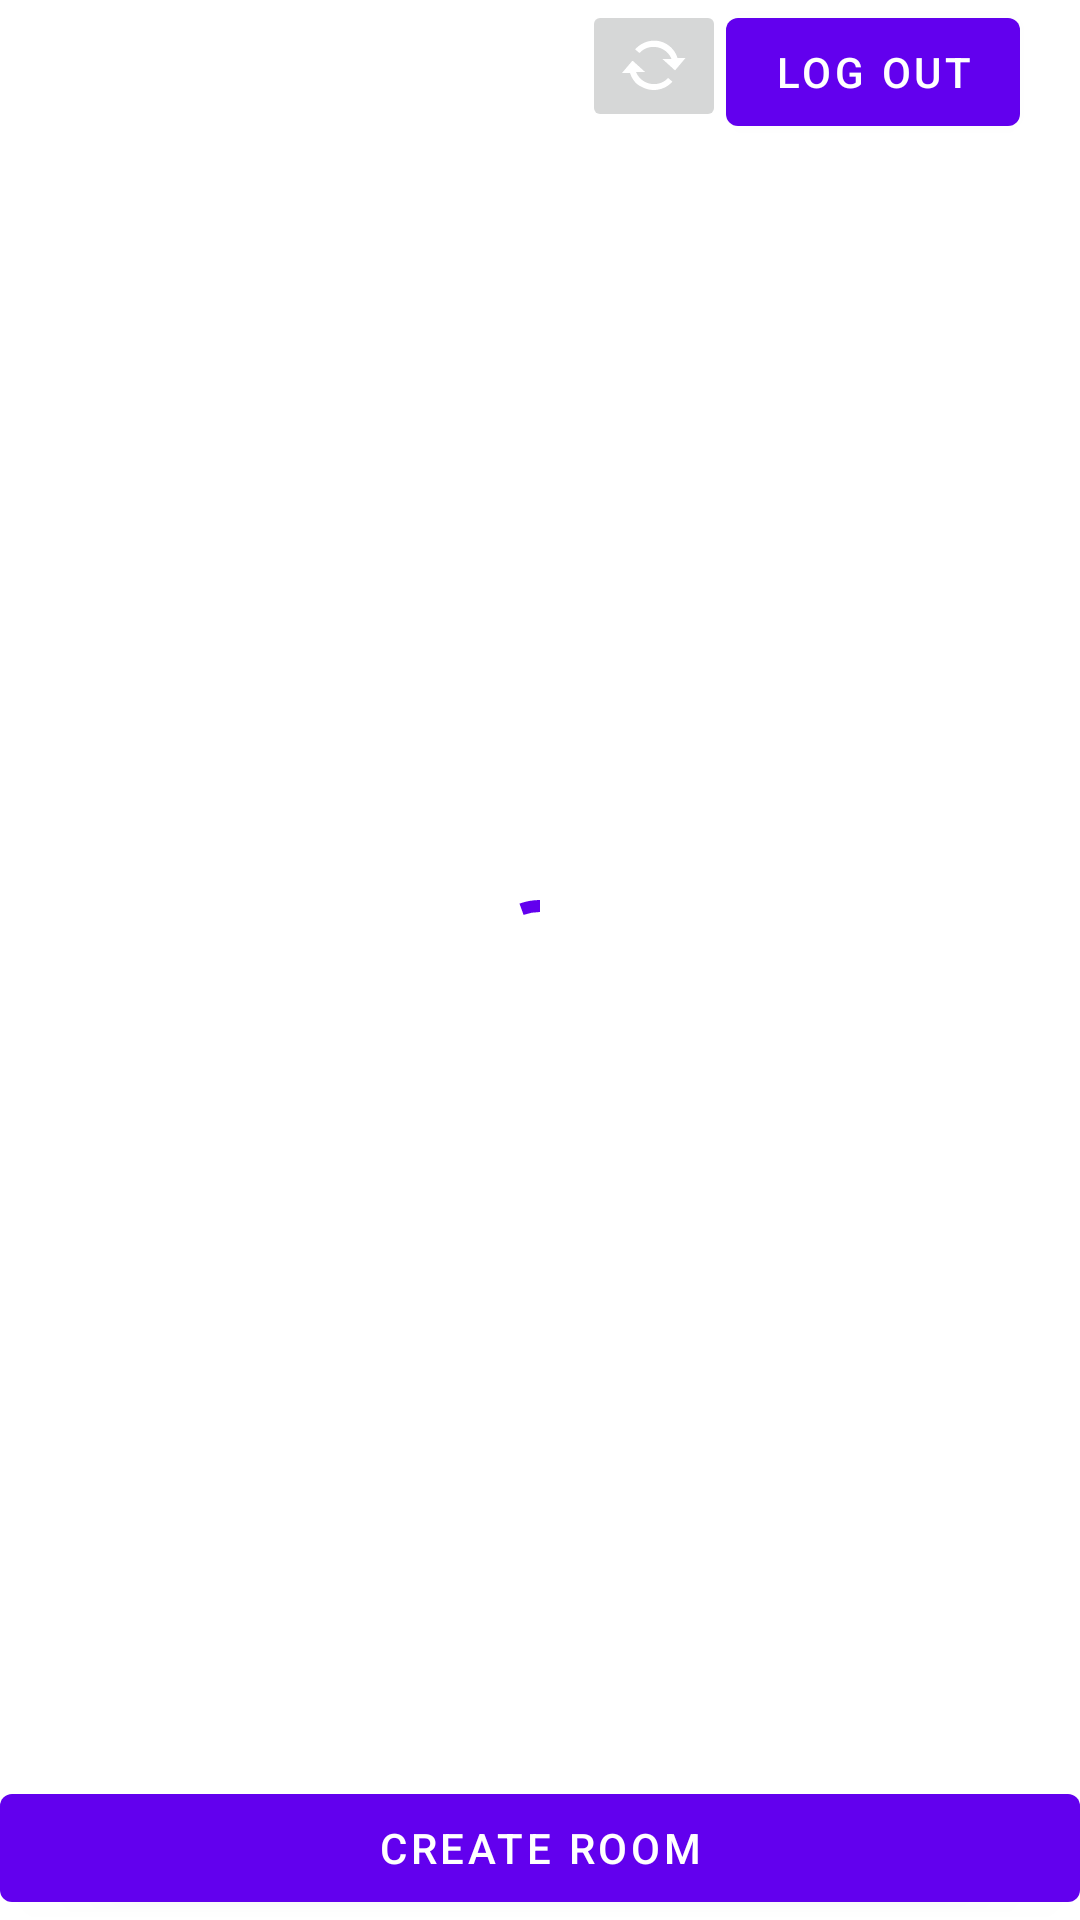

Point at icon controls on the screen. Image size 1080*1920, points as [x,y].
sync: [654,66]
